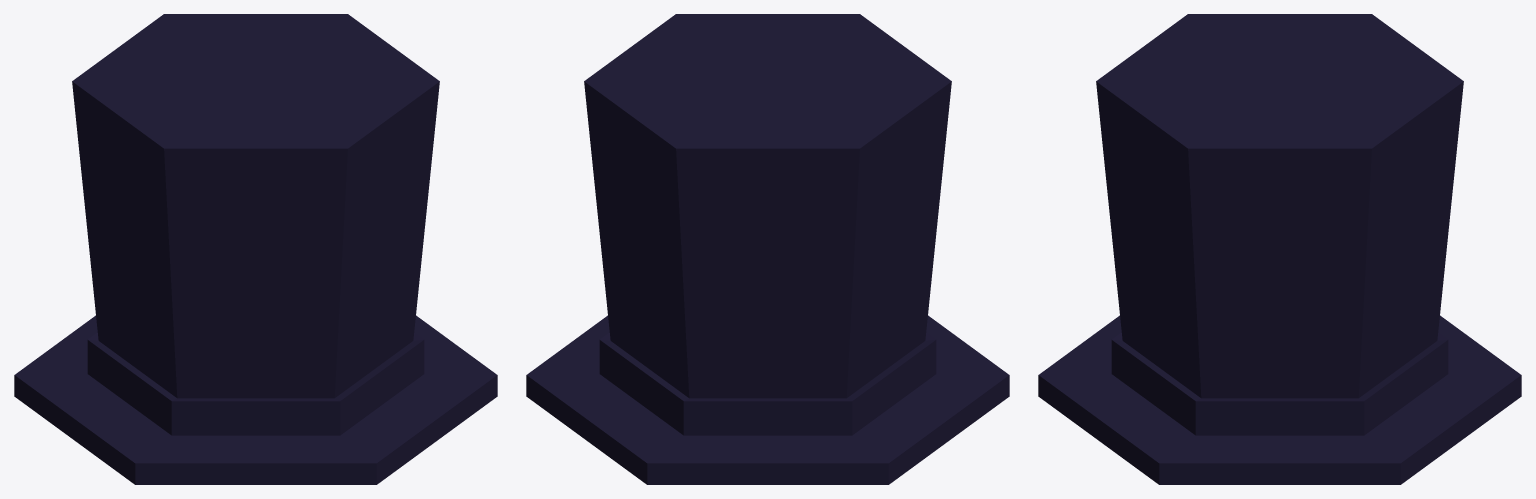
The model's file is Top Hat Of Fancy Ness The Fivith Of Numbers Yes It Is Top Hat .fbx.
The picture shows the model from 3 angles, left to right: view 1: azimuth 30°, elevation 25°; view 2: azimuth 150°, elevation 25°; view 3: azimuth 270°, elevation 25°; orthographic projection.
Parts seen in each view (by area): view 1: Cylinder; view 2: Cylinder; view 3: Cylinder.
Part boxes in pixels (box(x1,y1,x2,y2)): Cylinder: box(14, 14, 497, 484); Cylinder: box(526, 14, 1009, 484); Cylinder: box(1038, 14, 1521, 484).
Bounding box in the file's own units: 144 × 120 × 166.
